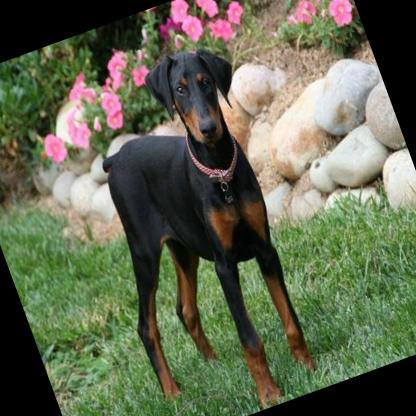Doberman: (50, 35, 345, 416)
